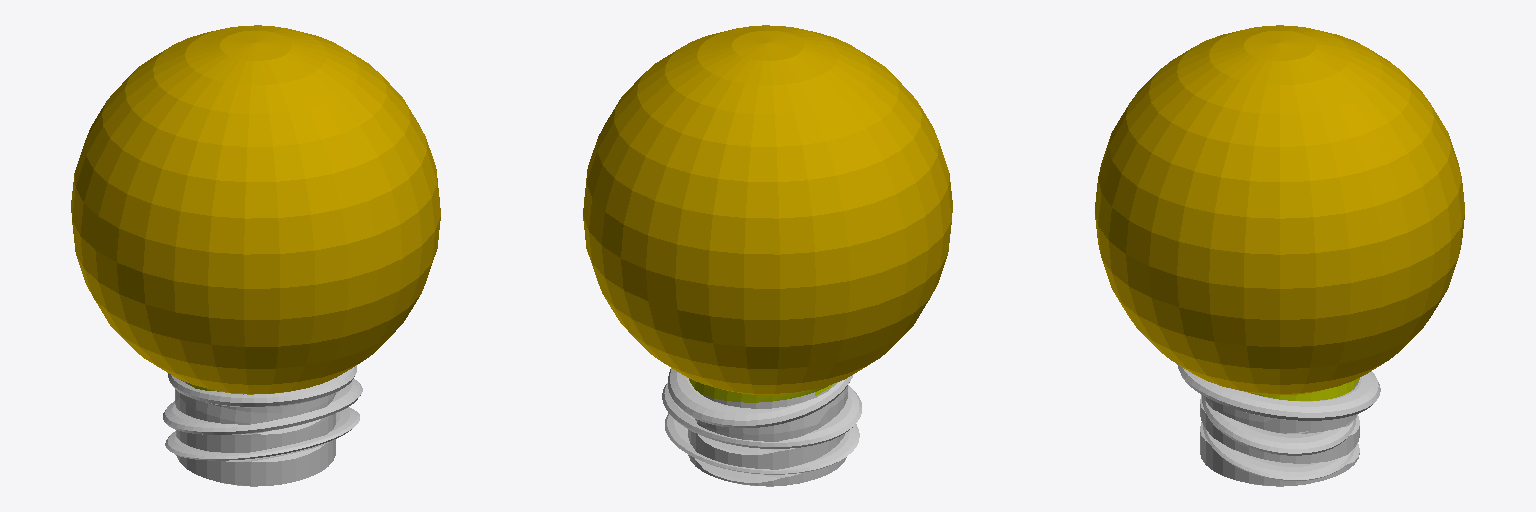
Rendered from gloeilamp.obj.
3 views of the same model, side by side, from view 1: azimuth 30°, elevation 25°; view 2: azimuth 150°, elevation 25°; view 3: azimuth 270°, elevation 25° (orthographic).
Parts seen in each view (by area): view 1: Sphere, Torus.000_Torus.004, Torus.003, Torus.001_Torus.005; view 2: Sphere, Torus.003, Torus.000_Torus.004, Torus.001_Torus.005; view 3: Sphere, Torus.003, Torus.000_Torus.004, Torus.001_Torus.005.
Boxes of the visible parts, <box> form: Sphere: <box>71,25,440,486</box>; Torus.000_Torus.004: <box>163,379,362,434</box>; Torus.003: <box>168,365,356,407</box>; Torus.001_Torus.005: <box>165,407,359,460</box>; Sphere: <box>583,25,952,486</box>; Torus.003: <box>668,368,853,427</box>; Torus.000_Torus.004: <box>662,383,861,448</box>; Torus.001_Torus.005: <box>665,413,859,474</box>; Sphere: <box>1095,25,1464,486</box>; Torus.003: <box>1177,364,1380,420</box>; Torus.000_Torus.004: <box>1202,395,1356,455</box>; Torus.001_Torus.005: <box>1203,425,1354,480</box>.
Bounding box in the file's own units: 2 × 2.54 × 2.